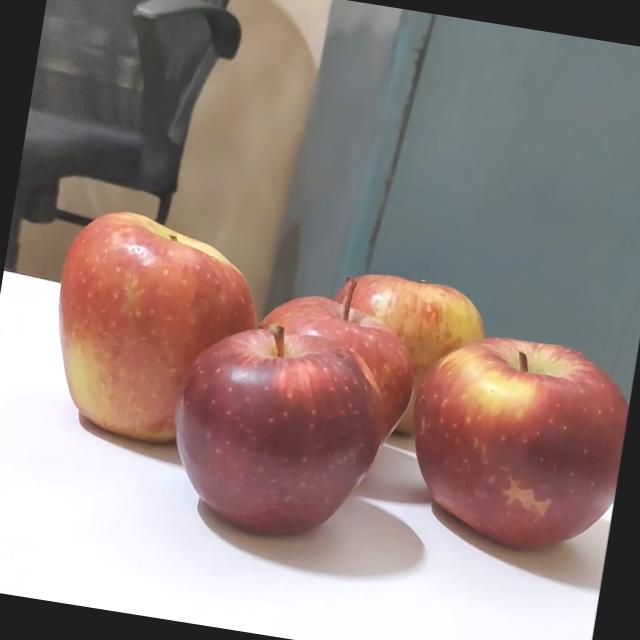apple: (372, 324, 636, 568), (27, 199, 268, 464), (140, 302, 384, 552), (222, 259, 420, 491), (314, 260, 492, 460)
